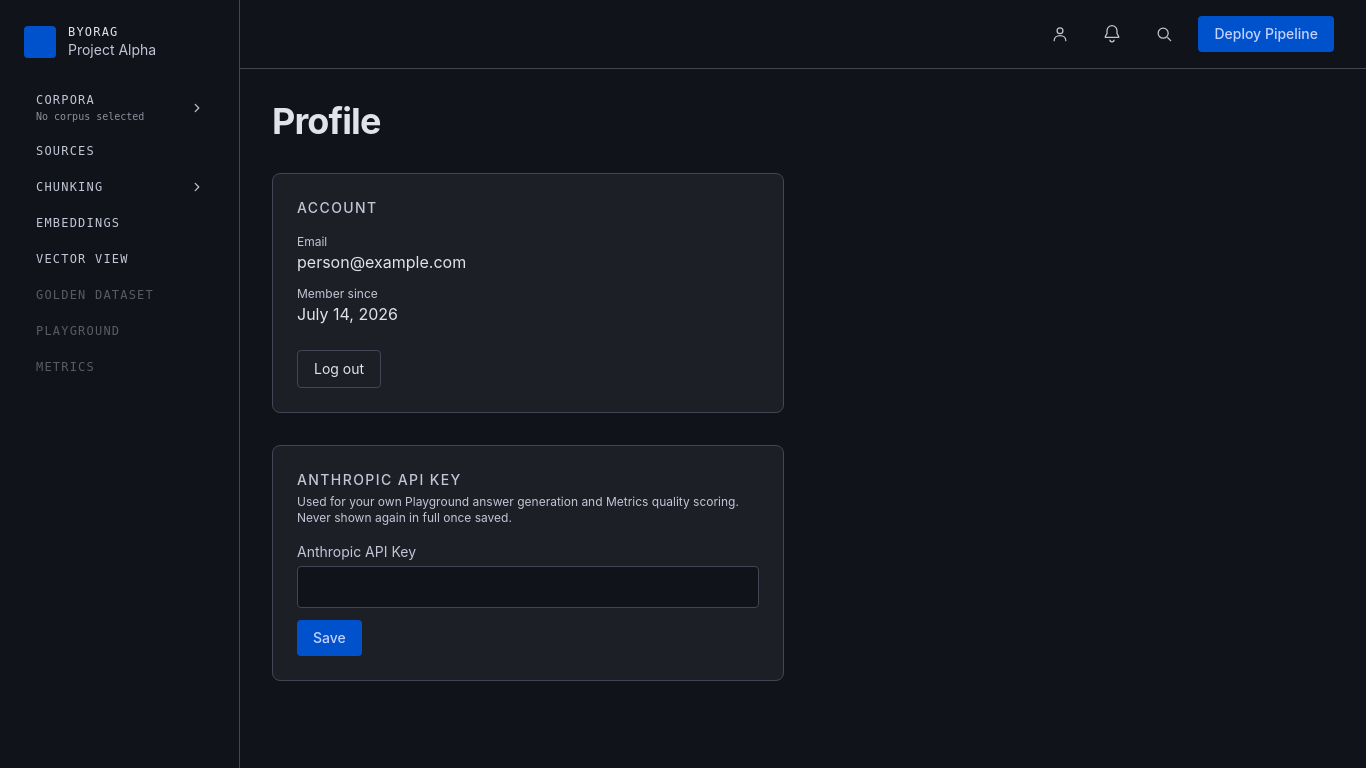
Test case: ProfileScreen — Anthropic key form (US2) › submits a new key and shows the masked value on success
This screenshot has width=1366, height=768.
Type "sk-ant-testwxyz" into the password field labelled "Anthropic API Key" at (528, 587), box [297,566,759,608]
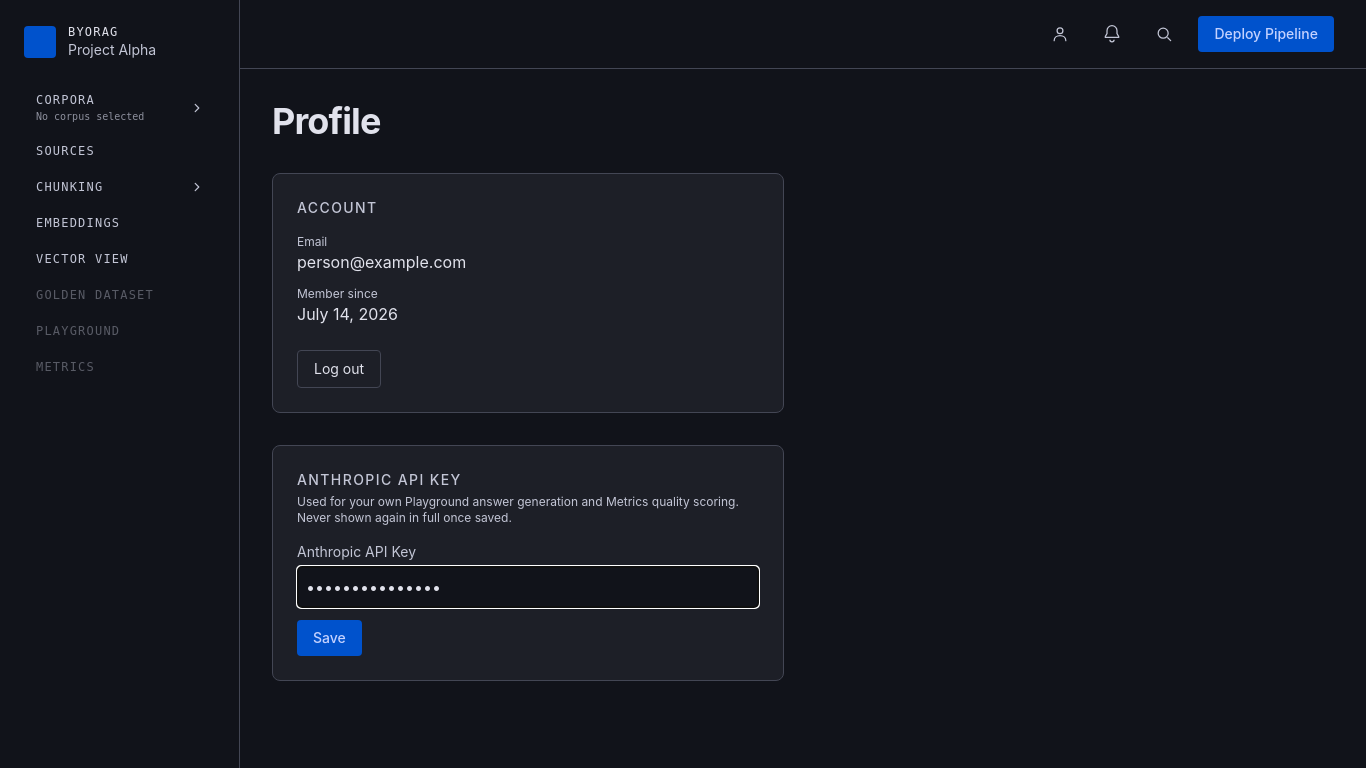
Click the button "Save" at (329, 638), box [297,620,362,656]
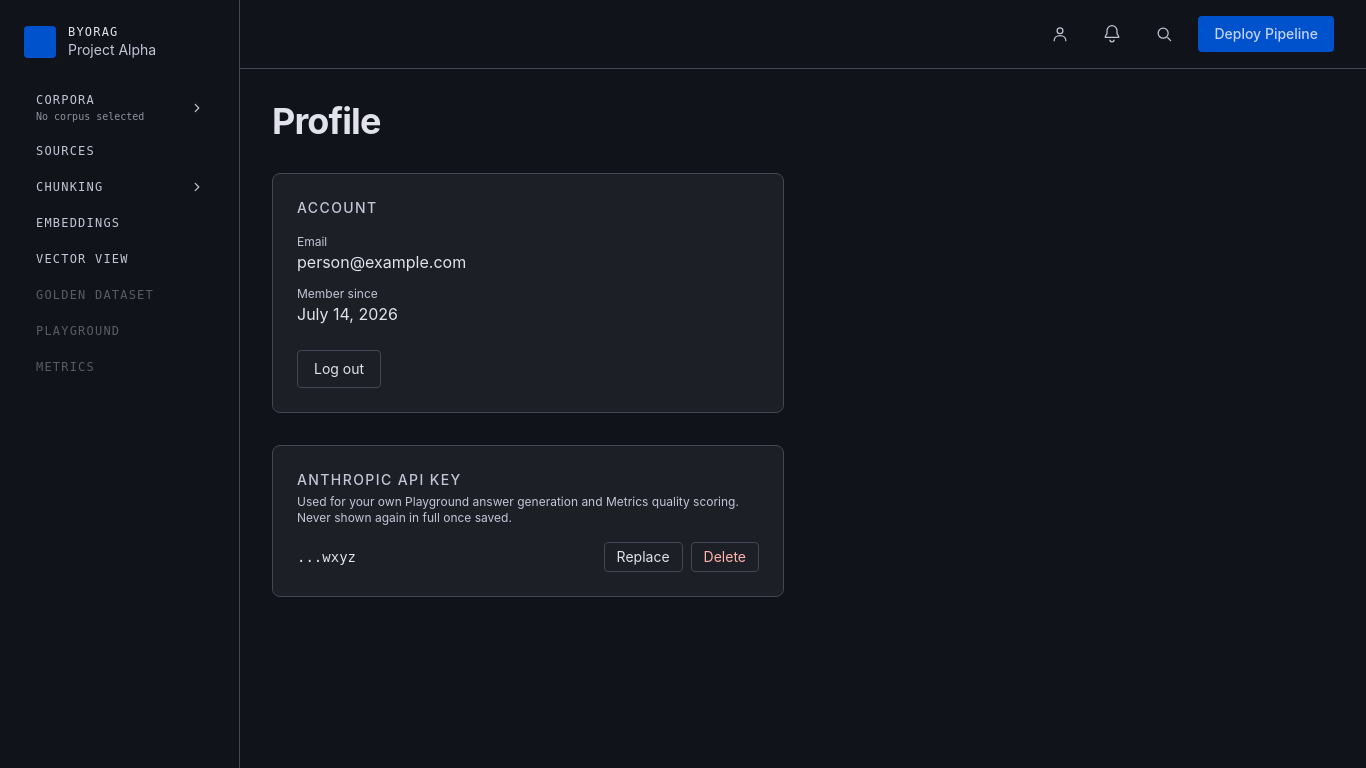
Result: the text "...wxyz" is shown at [297,547,356,567]
